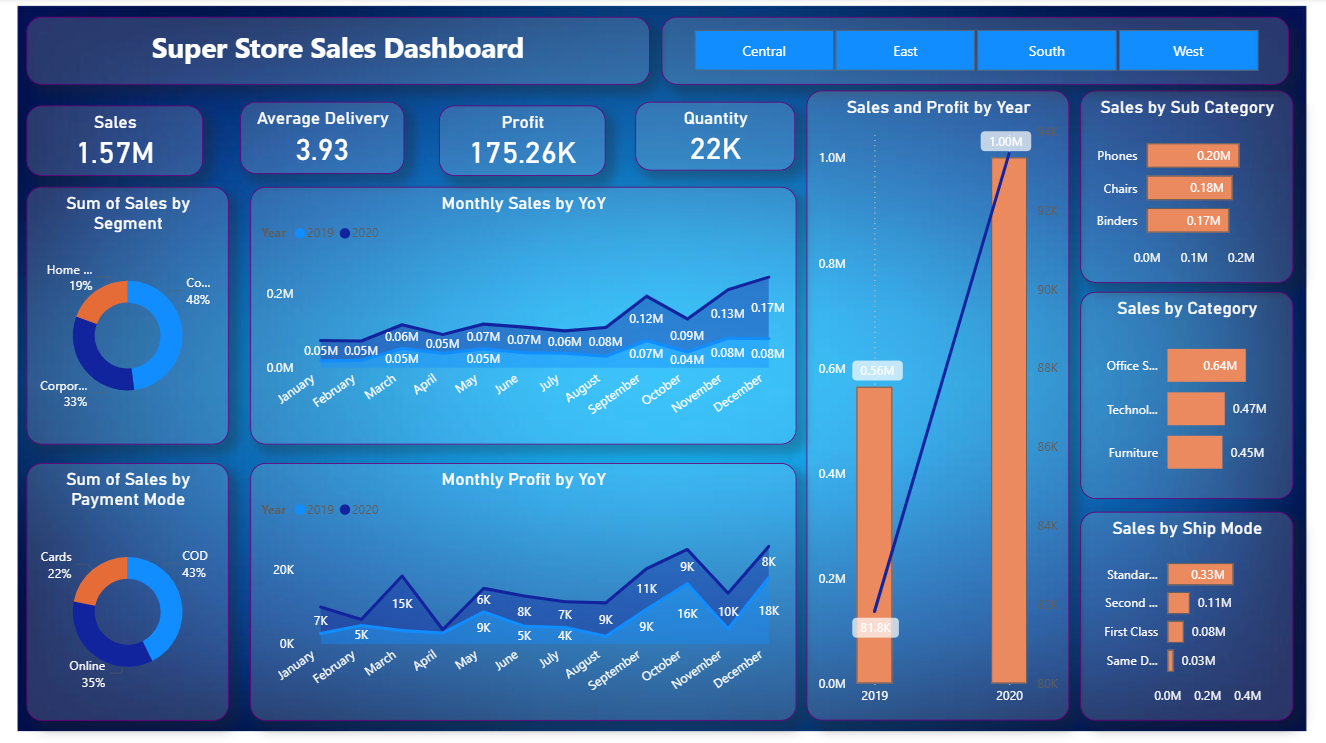

The dashboard page shown, as its layout file describes it:
{"tool":"powerbi","page":{"name":"Page 1","canvas":[1280,720],"ordinal":0},"visuals":[{"type":"clusteredBarChart","title":"Sales by Category","fields":{"Category":["SuperStore_Sales_Dataset.Category"],"Y":["Sum(SuperStore_Sales_Dataset.Sales)"]},"box":[1043.6,283.8,205.3,200.1],"z":0},{"type":"clusteredBarChart","title":"Sales by Sub Category","fields":{"Category":["SuperStore_Sales_Dataset.Sub-Category"],"Y":["Sum(SuperStore_Sales_Dataset.Sales)"]},"box":[1043.6,88.9,205.3,185.7],"z":1000},{"type":"clusteredBarChart","title":"Sales by Ship Mode","fields":{"Category":["SuperStore_Sales_Dataset.Ship Mode"],"Y":["Sum(SuperStore_Sales_Dataset.Sales)"]},"box":[1043.6,495.6,205.3,201.4],"z":2000},{"type":"stackedAreaChart","title":"Monthly Sales by YoY","fields":{"Y":["Sum(SuperStore_Sales_Dataset.Sales)"],"Category":["SuperStore_Sales_Dataset.Order Date.Variation.Date Hierarchy.Month","SuperStore_Sales_Dataset.Order Date.Variation.Date Hierarchy.Day"],"Series":["SuperStore_Sales_Dataset.Order Date.Variation.Date Hierarchy.Year"]},"box":[241.9,181.8,527,248.5],"z":3000},{"type":"stackedAreaChart","title":"Monthly Profit by YoY","fields":{"Category":["SuperStore_Sales_Dataset.Order Date.Variation.Date Hierarchy.Month","SuperStore_Sales_Dataset.Order Date.Variation.Date Hierarchy.Day"],"Series":["SuperStore_Sales_Dataset.Order Date.Variation.Date Hierarchy.Year"],"Y":["Sum(SuperStore_Sales_Dataset.Profit)"]},"box":[241.9,448.6,527,248.5],"z":4000},{"type":"donutChart","fields":{"Category":["SuperStore_Sales_Dataset.Segment"],"Y":["Sum(SuperStore_Sales_Dataset.Sales)"]},"box":[26.2,181.8,194.9,248.5],"z":5000},{"type":"donutChart","fields":{"Category":["SuperStore_Sales_Dataset.Payment Mode"],"Y":["Sum(SuperStore_Sales_Dataset.Sales)"]},"box":[26.2,448.6,194.9,248.5],"z":6000},{"type":"slicer","fields":{"Values":["SuperStore_Sales_Dataset.Region"]},"box":[639.5,18.3,605.5,65.4],"z":7000},{"type":"textbox","box":[26.2,18.3,601.6,65.4],"z":8000},{"type":"card","title":"Sales","fields":{"Values":["Sum(SuperStore_Sales_Dataset.Sales)"]},"box":[26.2,103.3,170,68],"z":9000},{"type":"card","title":"Quantity","fields":{"Values":["Sum(SuperStore_Sales_Dataset.Quantity)"]},"box":[614.6,100.7,154.3,66.7],"z":10000},{"type":"card","title":"Profit","fields":{"Values":["Sum(SuperStore_Sales_Dataset.Profit)"]},"box":[425,103.3,160.9,68],"z":11000},{"type":"card","title":"Average Delivery","fields":{"Values":["Avg(SuperStore_Sales_Dataset.AvgDelivery)"]},"box":[232.8,100.7,158.2,69.3],"z":12000},{"type":"lineStackedColumnComboChart","title":"Sales and Profit by Year","fields":{"Category":["SuperStore_Sales_Dataset.Order Date.Variation.Date Hierarchy.Year"],"Y":["Sum(SuperStore_Sales_Dataset.Sales)"],"Y2":["Sum(SuperStore_Sales_Dataset.Profit)"]},"box":[779.4,88.9,253.7,608.1],"z":13000}]}

Visuals, with their boxes in screenshot pixels (x1, y1, x2, y2), scaled from the page's 1280x720 canvas onto the 1326x743 screenshot:
"Sales by Category" clusteredBarChart: [1081,293,1294,499]
"Sales by Sub Category" clusteredBarChart: [1081,92,1294,283]
"Sales by Ship Mode" clusteredBarChart: [1081,511,1294,719]
"Monthly Sales by YoY" stackedAreaChart: [251,188,797,444]
"Monthly Profit by YoY" stackedAreaChart: [251,463,797,719]
donutChart - SuperStore_Sales_Dataset.Segment x Sum(SuperStore_Sales_Dataset.Sales): [27,188,229,444]
donutChart - SuperStore_Sales_Dataset.Payment Mode x Sum(SuperStore_Sales_Dataset.Sales): [27,463,229,719]
slicer - SuperStore_Sales_Dataset.Region: [662,19,1290,86]
textbox: [27,19,650,86]
"Sales" card: [27,107,203,177]
"Quantity" card: [637,104,797,173]
"Profit" card: [440,107,607,177]
"Average Delivery" card: [241,104,405,175]
"Sales and Profit by Year" lineStackedColumnComboChart: [807,92,1070,719]
